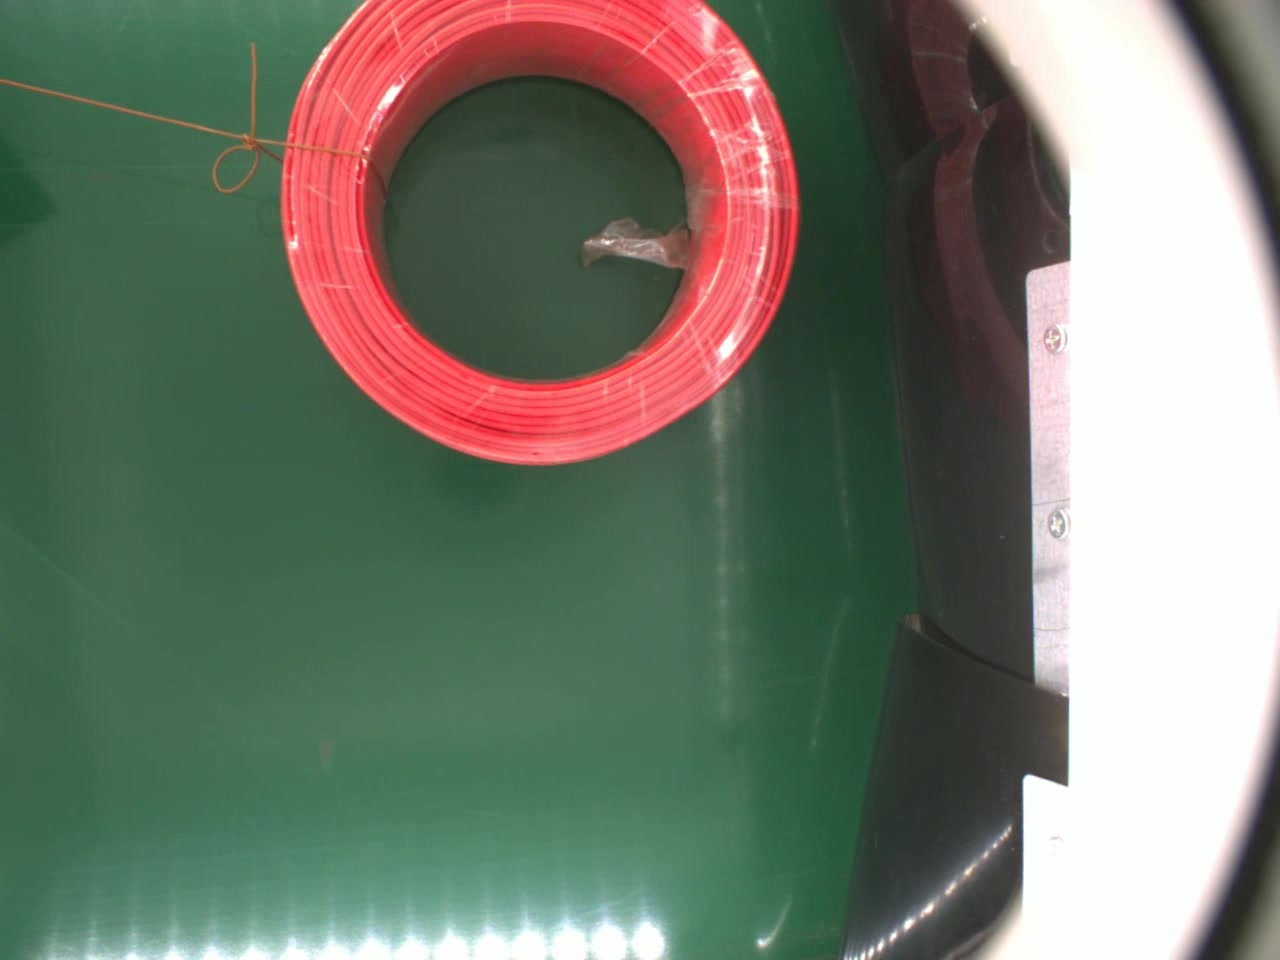red: (274, 0, 807, 466)
